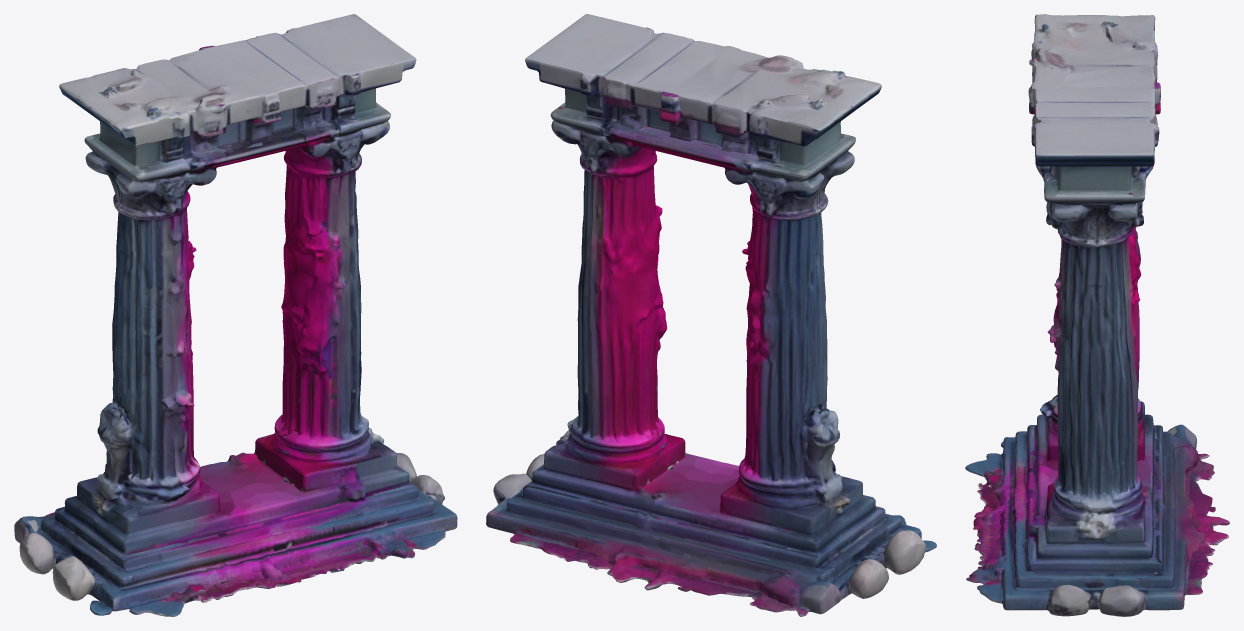
The model's file is support-column-generated-2026-05-17T18-28-00-874Z.high.glb.
3 views of the same model, side by side, from view 1: azimuth 30°, elevation 25°; view 2: azimuth 150°, elevation 25°; view 3: azimuth 270°, elevation 25° (orthographic). The views are drawn at different scales.
Visible parts, largest first — view 1: temp_mesh.ply; view 2: temp_mesh.ply; view 3: temp_mesh.ply.
Boxes of the visible parts, x1,y1,x2,y2 form: temp_mesh.ply: (14, 14, 457, 616); temp_mesh.ply: (486, 14, 936, 616); temp_mesh.ply: (965, 14, 1229, 616).
Size of the model in its own units: 1.69 by 1.97 by 1.04.
Materials: 1 (1 with a texture image).
